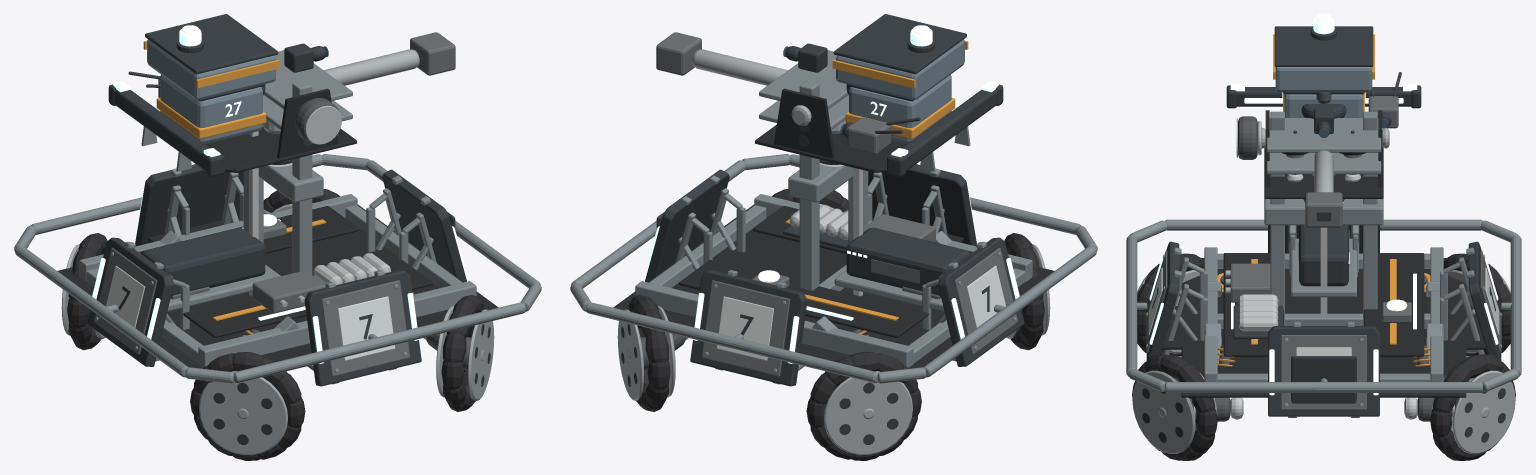
File: robot-2771-spec2027.glb
3 renders of one model, left to right at view 1: azimuth 30°, elevation 25°; view 2: azimuth 150°, elevation 25°; view 3: azimuth 270°, elevation 25°, orthographic. The views are drawn at different scales.
Parts seen in each view (by area): view 1: Chassis_RobotMatteAluminum, Chassis_CarbonPlate, Magazine_TeamPrimaryShell, Chassis_RobotMatteGraphite, Wheel_0_MachinedAlloy, ArmorModuleBody.001, Magazine_RobotMatteGraphite, Turret_CarbonPlate, ArmorModuleBody.003, Wheel_0_PolyurethaneRoller, ArmorModuleBody, ArmorHitFace.003 (+23 smaller); view 2: Chassis_RobotMatteAluminum, Chassis_CarbonPlate, Magazine_TeamPrimaryShell, Chassis_RobotMatteGraphite, Wheel_1_MachinedAlloy, Turret_CarbonPlate, ArmorModuleBody.003, Magazine_RobotMatteGraphite, ArmorModuleBody.001, Turret_RobotMatteGraphite, Wheel_1_PolyurethaneRoller, ArmorModuleBody (+22 smaller); view 3: Chassis_RobotMatteAluminum, Chassis_CarbonPlate, Chassis_RobotMatteGraphite, GunPitch_RobotMatteAluminum, Magazine_RobotMatteGraphite, Magazine_TeamPrimaryShell, Wheel_2_MachinedAlloy, Wheel_3_MachinedAlloy, ArmorModuleBody, Chassis_MotorCapSilver, Turret_CarbonPlate, ArmorHitFace (+28 smaller).
Part boxes in pixels (left/top/right/bottom): Chassis_RobotMatteAluminum: left=14, top=80, right=541, bottom=383; Chassis_CarbonPlate: left=57, top=204, right=498, bottom=383; Magazine_TeamPrimaryShell: left=147, top=39, right=275, bottom=143; Chassis_RobotMatteGraphite: left=141, top=212, right=455, bottom=297; Wheel_0_MachinedAlloy: left=199, top=371, right=287, bottom=455; ArmorModuleBody.001: left=135, top=164, right=243, bottom=246; Magazine_RobotMatteGraphite: left=145, top=14, right=278, bottom=101; Turret_CarbonPlate: left=205, top=88, right=356, bottom=172; ArmorModuleBody.003: left=304, top=270, right=421, bottom=386; Wheel_0_PolyurethaneRoller: left=190, top=352, right=305, bottom=460; ArmorModuleBody: left=382, top=169, right=466, bottom=282; ArmorHitFace.003: left=321, top=280, right=410, bottom=376; Chassis_RobotMatteAluminum: left=570, top=80, right=1097, bottom=383; Chassis_CarbonPlate: left=613, top=204, right=1054, bottom=383; Magazine_TeamPrimaryShell: left=836, top=39, right=964, bottom=143; Chassis_RobotMatteGraphite: left=656, top=212, right=970, bottom=297; Wheel_1_MachinedAlloy: left=824, top=371, right=912, bottom=455; Turret_CarbonPlate: left=755, top=88, right=906, bottom=172; ArmorModuleBody.003: left=868, top=164, right=976, bottom=246; Magazine_RobotMatteGraphite: left=833, top=14, right=966, bottom=101; ArmorModuleBody.001: left=690, top=270, right=807, bottom=386; Turret_RobotMatteGraphite: left=798, top=84, right=1003, bottom=176; Wheel_1_PolyurethaneRoller: left=806, top=352, right=921, bottom=460; ArmorModuleBody: left=645, top=169, right=729, bottom=282; Chassis_RobotMatteAluminum: left=1126, top=111, right=1521, bottom=392; Chassis_CarbonPlate: left=1161, top=253, right=1486, bottom=397; Chassis_RobotMatteGraphite: left=1189, top=225, right=1458, bottom=410; GunPitch_RobotMatteAluminum: left=1266, top=118, right=1381, bottom=174; Magazine_RobotMatteGraphite: left=1274, top=26, right=1373, bottom=94; Magazine_TeamPrimaryShell: left=1275, top=67, right=1372, bottom=117; Wheel_2_MachinedAlloy: left=1132, top=370, right=1217, bottom=453; Wheel_3_MachinedAlloy: left=1430, top=370, right=1515, bottom=453; ArmorModuleBody: left=1268, top=326, right=1379, bottom=416; Chassis_MotorCapSilver: left=1193, top=227, right=1454, bottom=419; Turret_CarbonPlate: left=1264, top=110, right=1383, bottom=198; ArmorHitFace: left=1281, top=335, right=1366, bottom=409.
Bounding box in the file's own units: 0.5969 × 0.584 × 0.5969.
